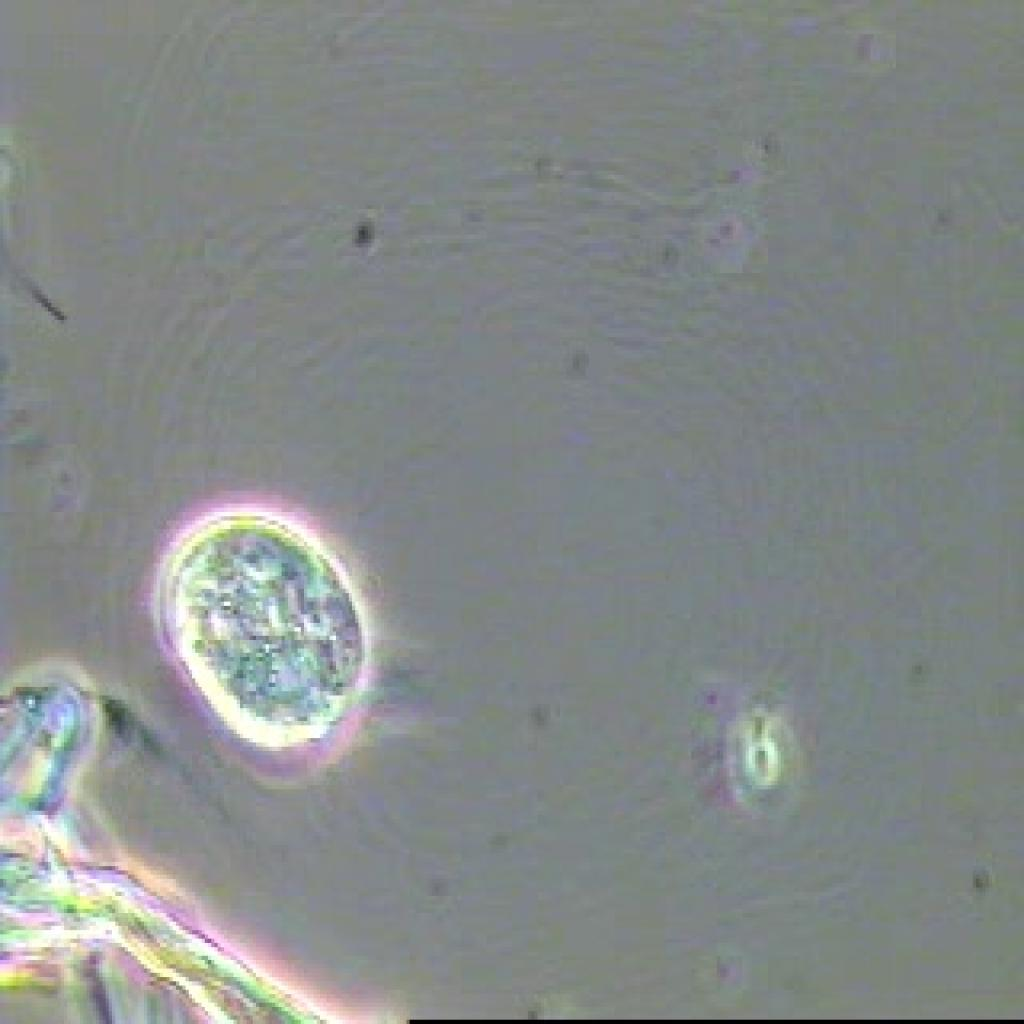Aspidisca: (130, 465, 466, 789)
